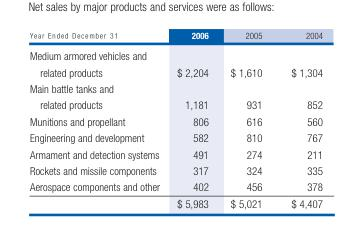table: (29, 29, 321, 209)
table column: (29, 29, 167, 209), (218, 29, 275, 209), (167, 29, 218, 209), (275, 29, 321, 209)
table column header: (29, 29, 321, 44)
table row: (29, 44, 321, 79), (29, 79, 321, 112), (29, 112, 321, 129), (29, 161, 321, 178), (29, 129, 321, 145), (29, 145, 321, 161), (29, 178, 321, 194), (29, 29, 321, 44), (29, 194, 321, 209)
